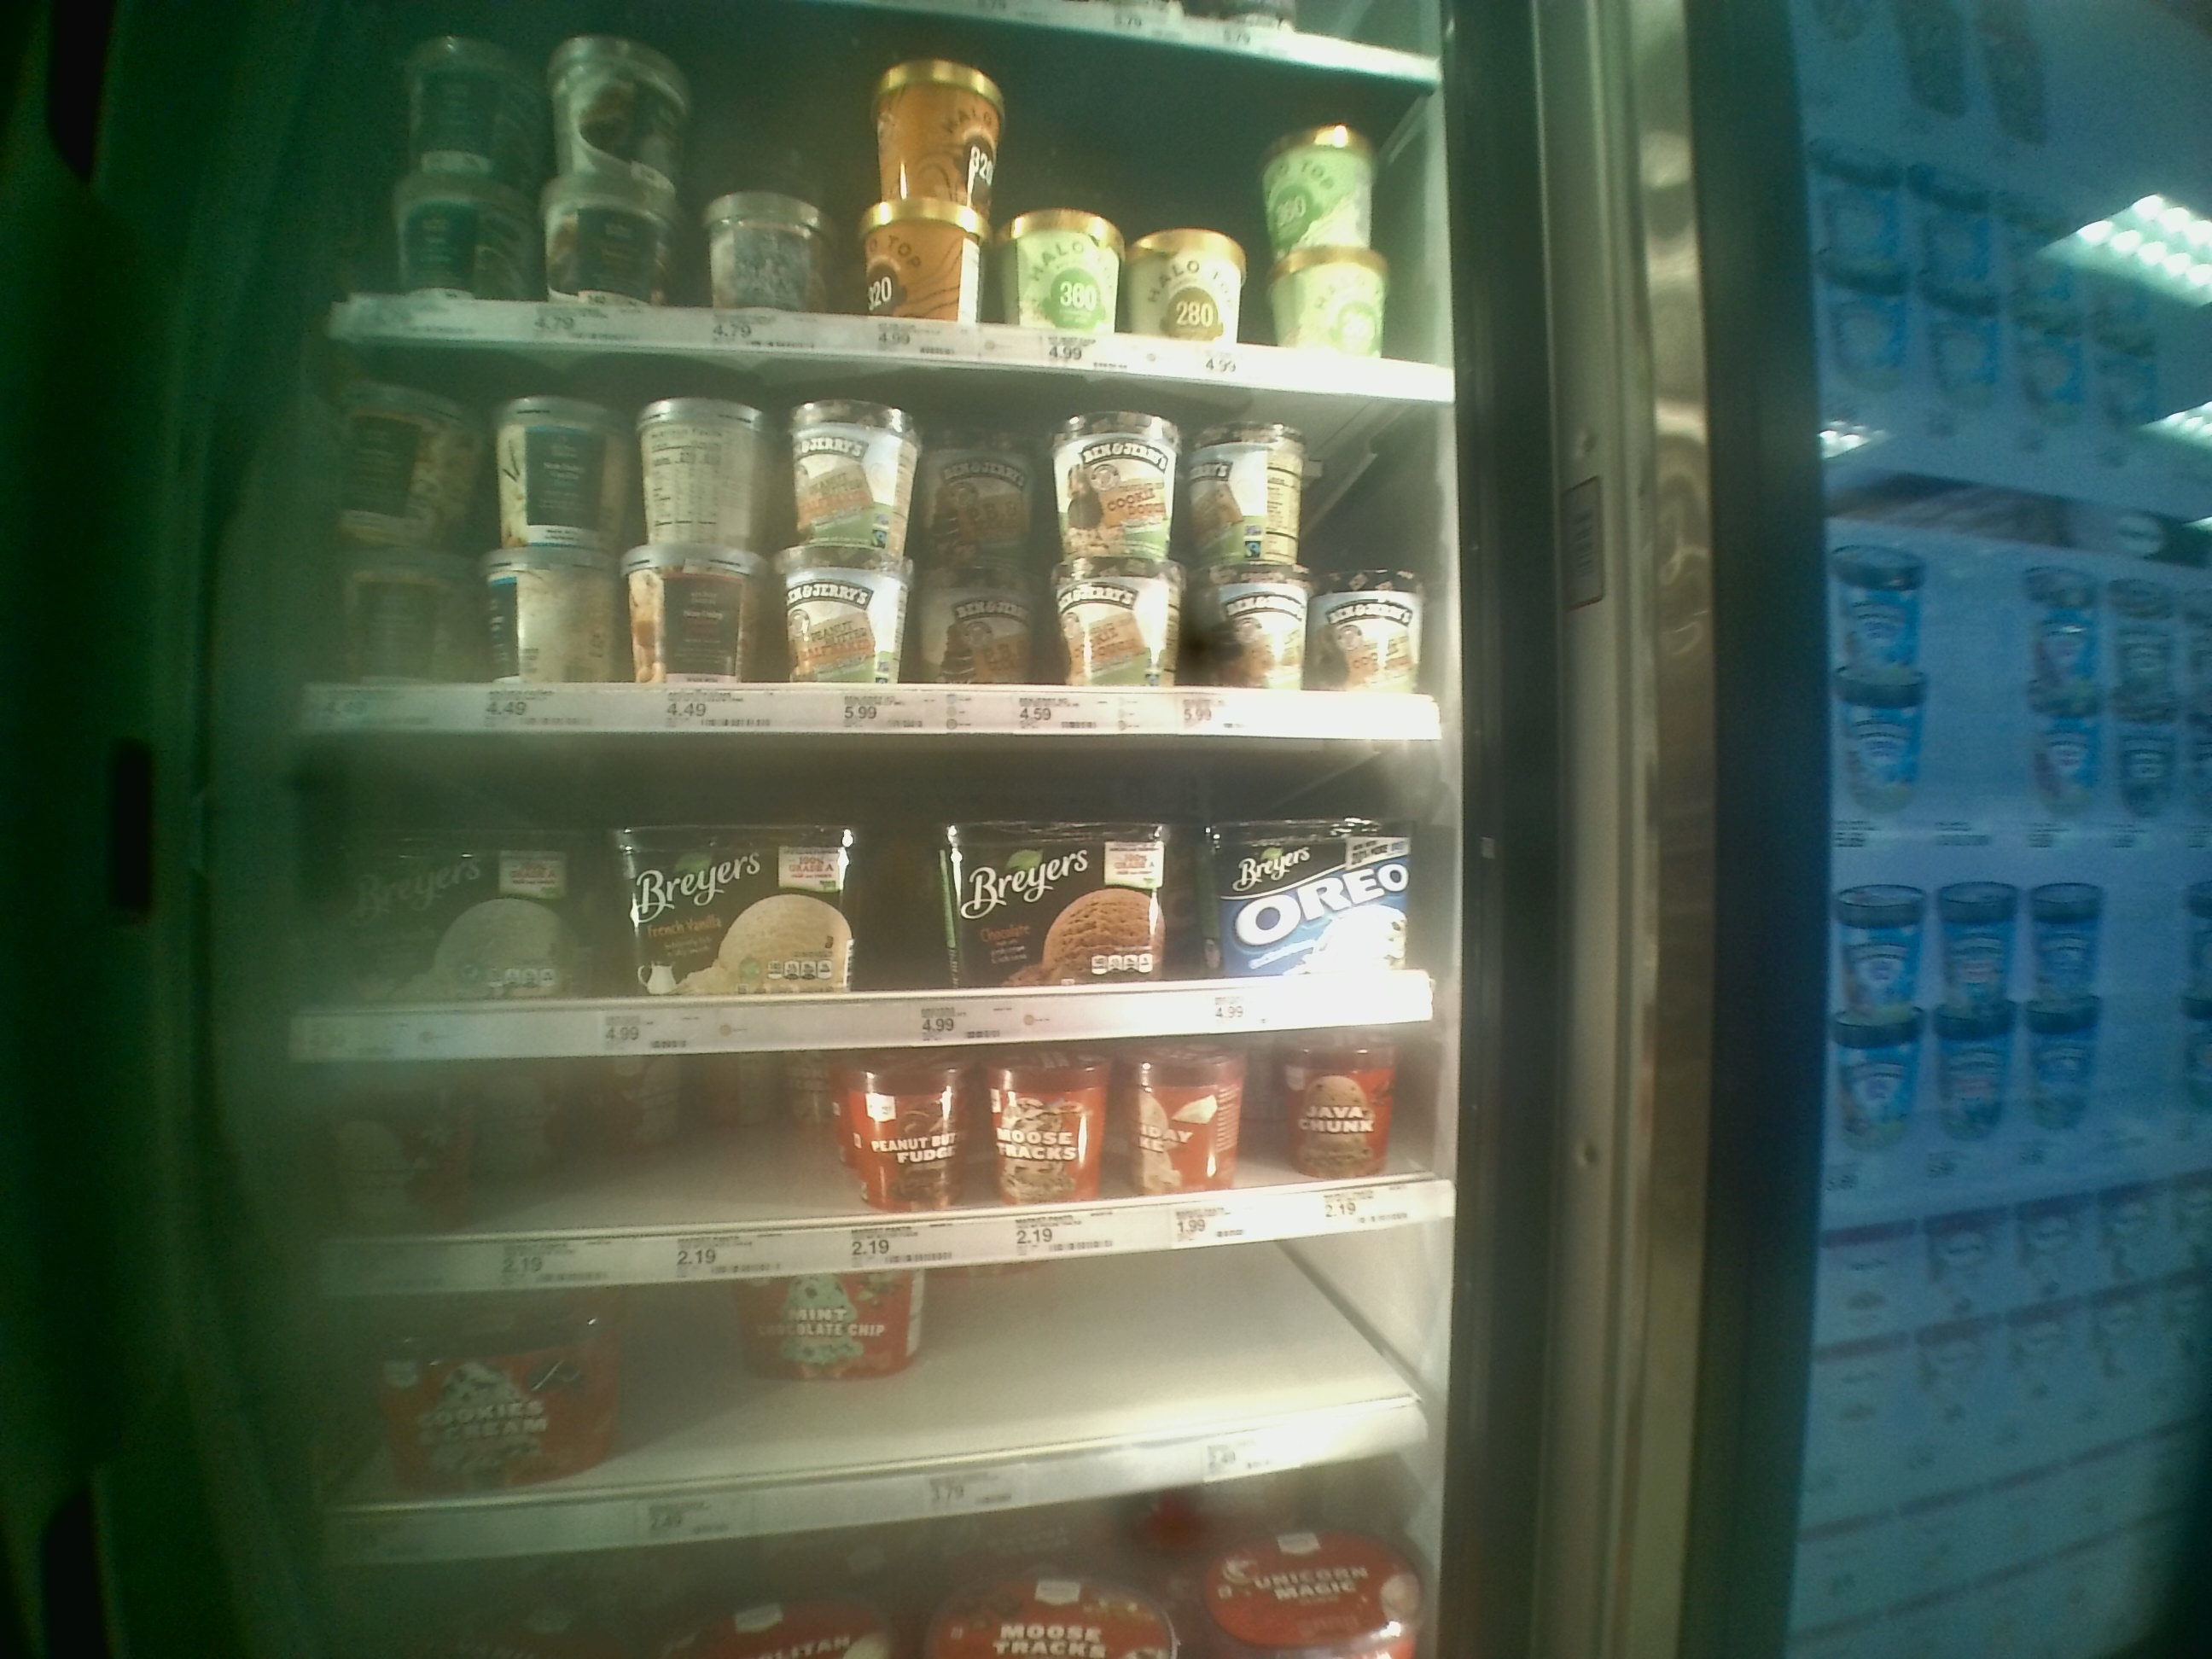ice-cream-shelf: (301, 357, 1447, 742), (298, 728, 1456, 1040), (312, 1072, 1435, 1269)
